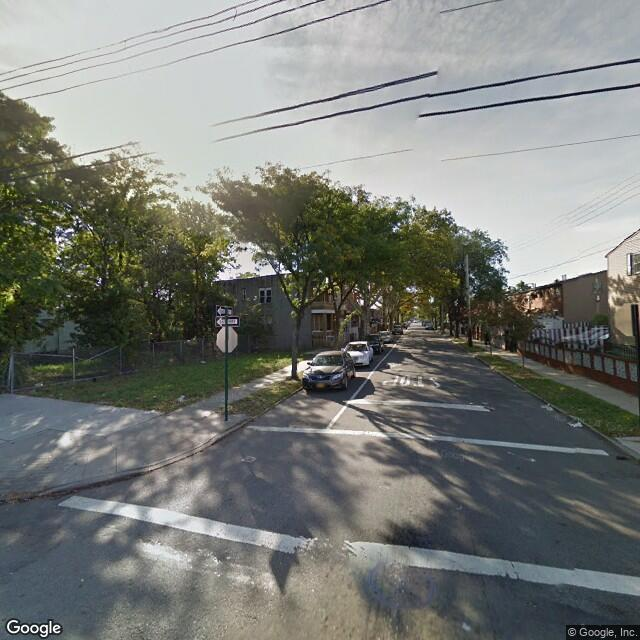litter: (566, 420, 584, 433), (172, 392, 186, 406), (540, 399, 551, 410), (32, 379, 45, 387), (526, 456, 537, 464), (200, 358, 207, 364), (558, 383, 567, 387), (226, 404, 233, 409), (149, 406, 154, 410)
